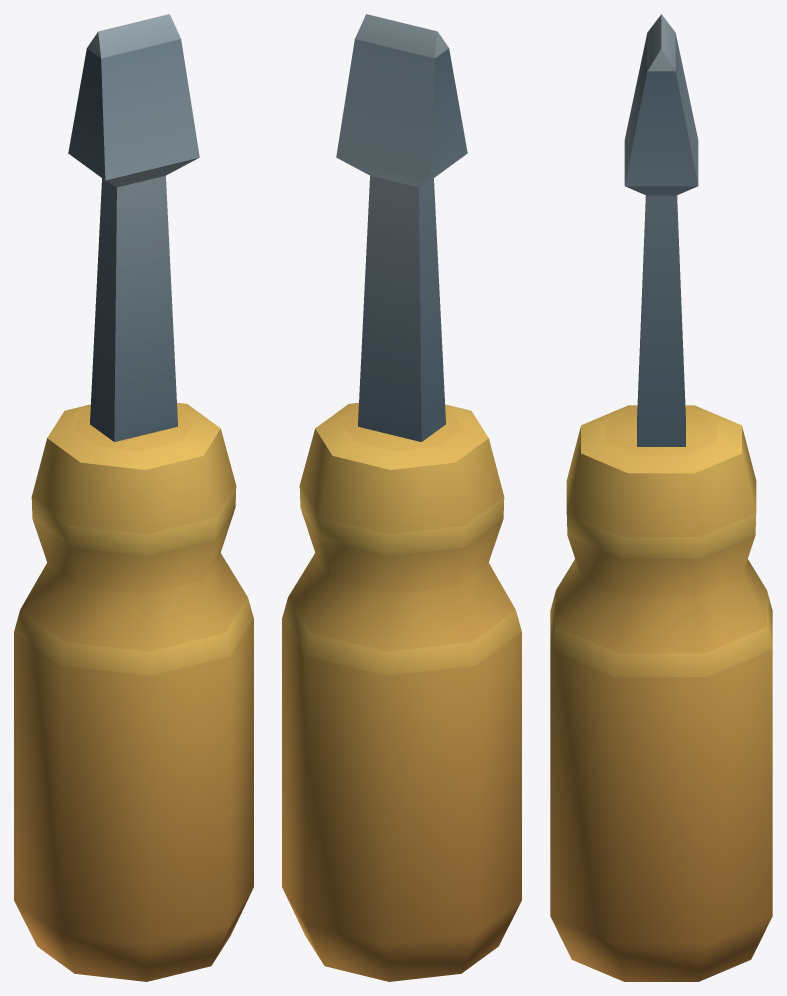
The model's file is screwdriver_A_short_color.obj.
The picture shows the model from 3 angles, left to right: view 1: azimuth 30°, elevation 25°; view 2: azimuth 150°, elevation 25°; view 3: azimuth 270°, elevation 25°; orthographic projection.
Visible parts, largest first — view 1: screwdriver_A_short_color; view 2: screwdriver_A_short_color; view 3: screwdriver_A_short_color.
Part boxes in pixels (left/top/right/bottom): screwdriver_A_short_color: left=14, top=14, right=253, bottom=981; screwdriver_A_short_color: left=282, top=14, right=521, bottom=981; screwdriver_A_short_color: left=550, top=14, right=772, bottom=981.
Size of the model in its own units: 0.1513 by 0.7034 by 0.1513.
Materials: 1 (1 with a texture image).
